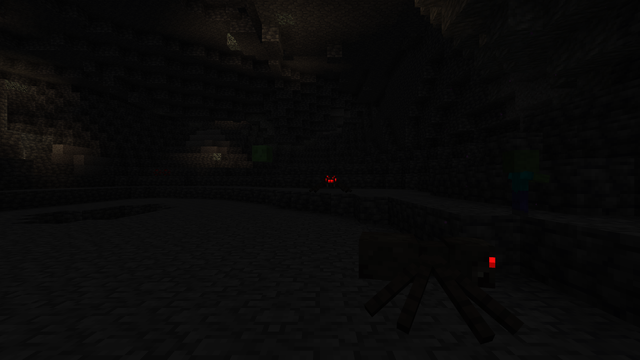araignees: (368, 224, 521, 328), (315, 173, 345, 192)
slimes: (252, 144, 271, 161)
zombies: (505, 159, 535, 216)
